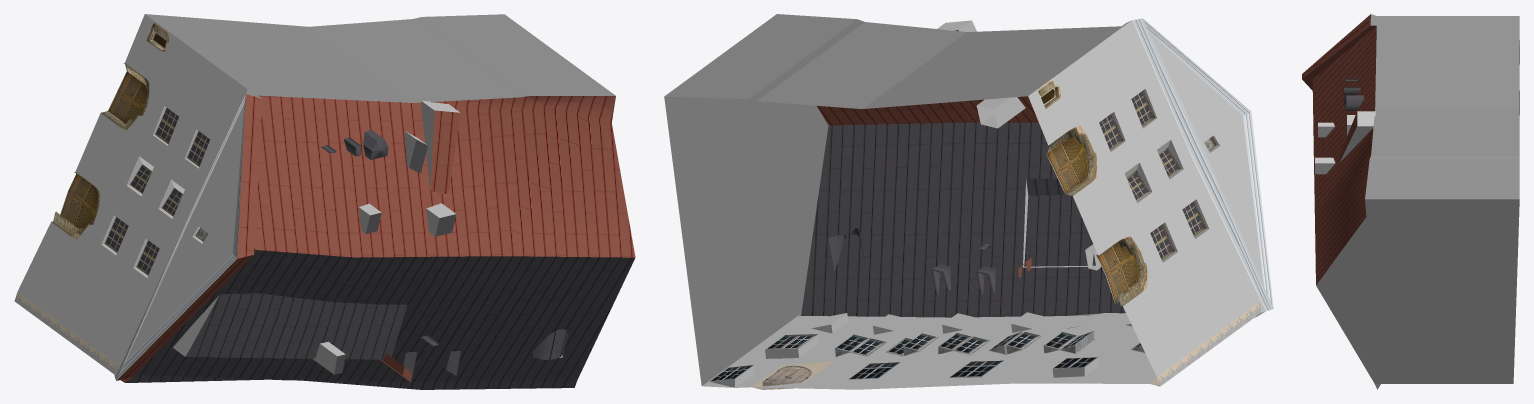
File: Vene_14-origo.obj
3 views of the same model, side by side, from view 1: azimuth 30°, elevation 25°; view 2: azimuth 150°, elevation 25°; view 3: azimuth 270°, elevation 25° (orthographic). The views are drawn at different scales.
Visible parts, largest first — view 1: Vene_14; view 2: Vene_14; view 3: Vene_14.
Part boxes in pixels (left/top/right/bottom): Vene_14: left=14, top=14, right=635, bottom=389; Vene_14: left=664, top=14, right=1273, bottom=389; Vene_14: left=1302, top=14, right=1519, bottom=389.
Bounding box in the file's own units: 29.44 × 21.5 × 16.13.
